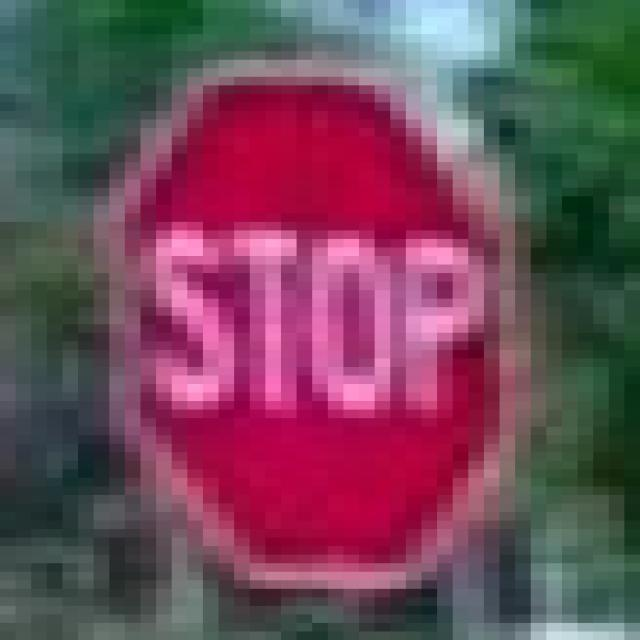Stop-Sign: (128, 87, 500, 552)
